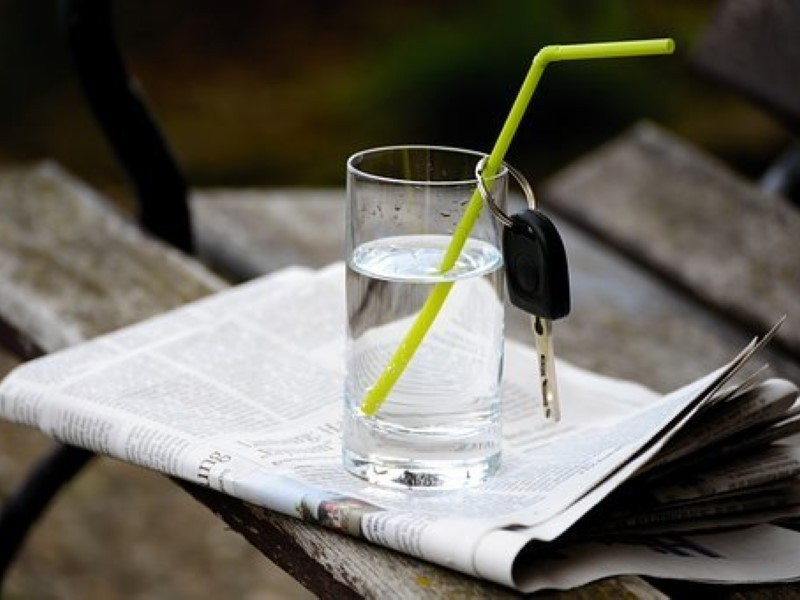key: (486, 196, 582, 433)
